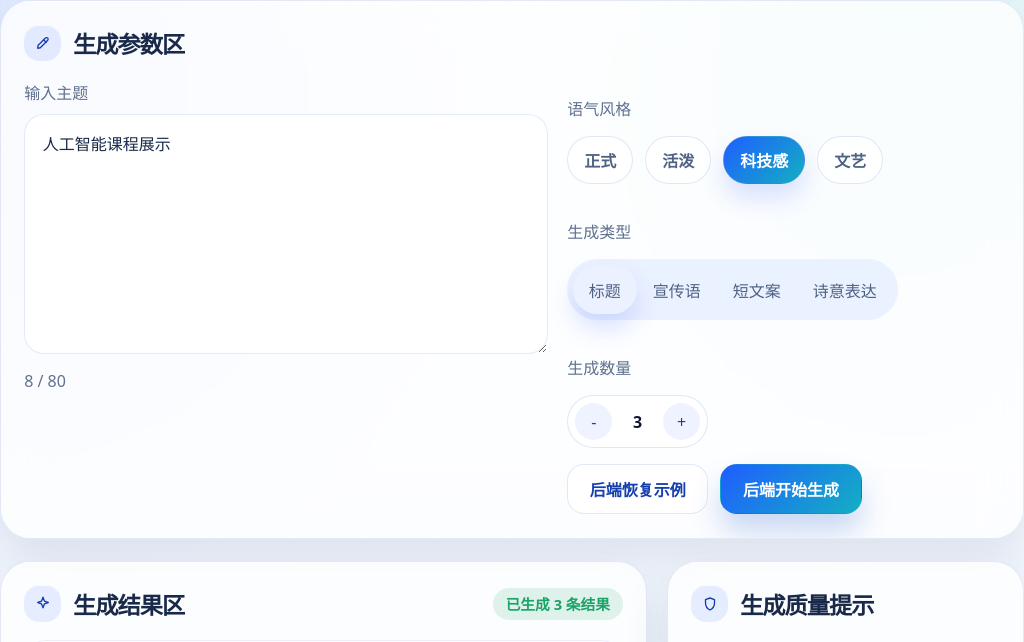
Test case: TextGenerationPage › uses the current config to build local fallback outputs when generation fails afterwards
Replace the text in the text box with "课程答辩展示自动化回归" at (286, 234), box [24,114,548,354]
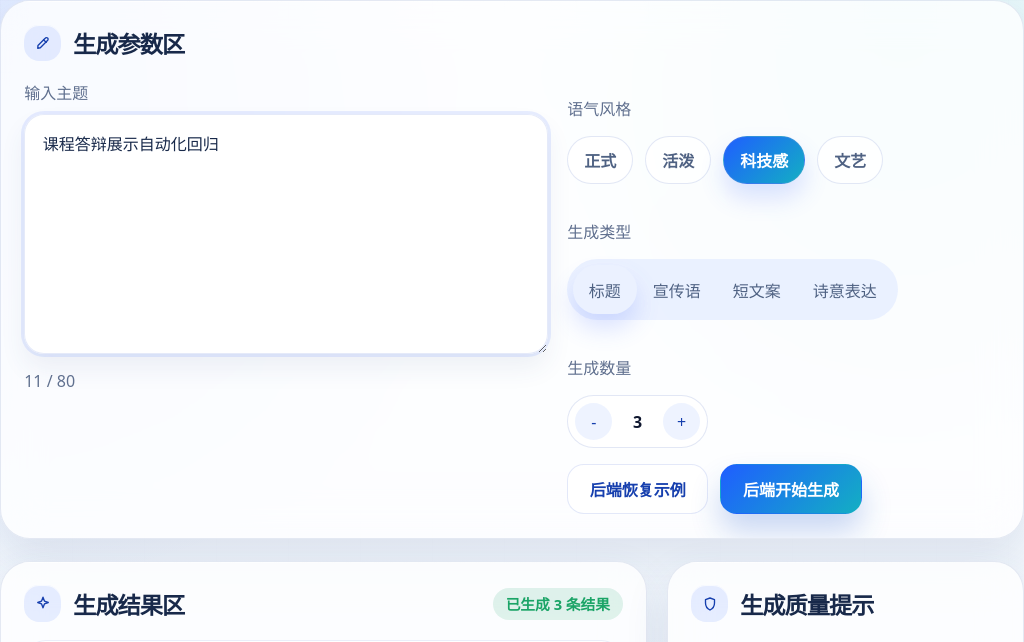
Click the button "后端开始生成".
click(791, 489)  # box [720,464,862,514]
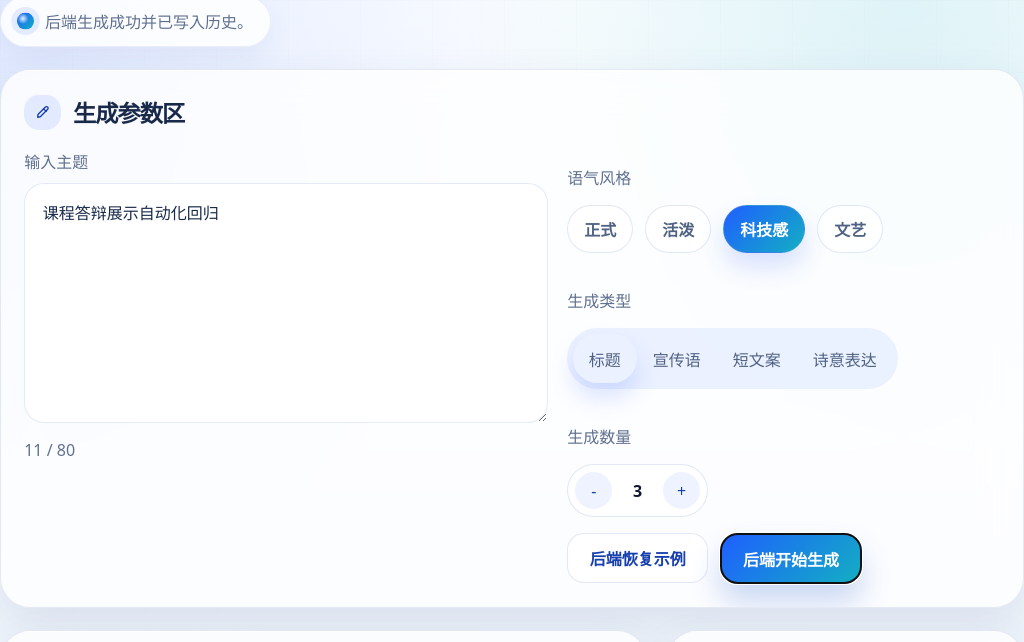
Click the button "后端开始生成".
click(791, 559)  # box [720,533,862,584]
(page scrolled)
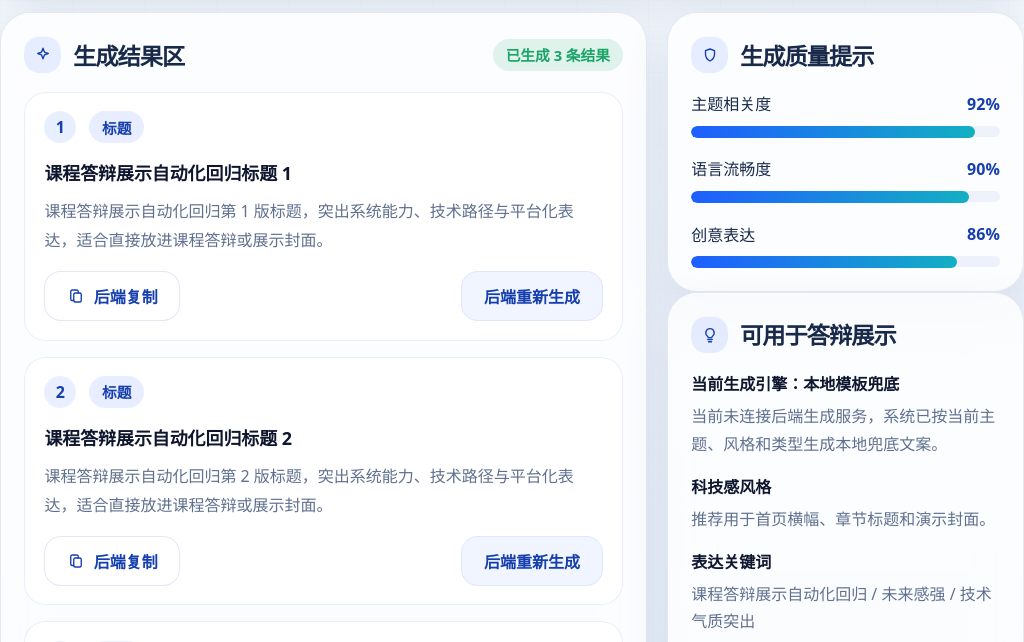
Now the heading "课程答辩展示自动化回归标题 2" is shown, box [44,426,292,450]
Now the text "当前生成引擎：本地模板兜底" is shown, box [691,373,899,395]
